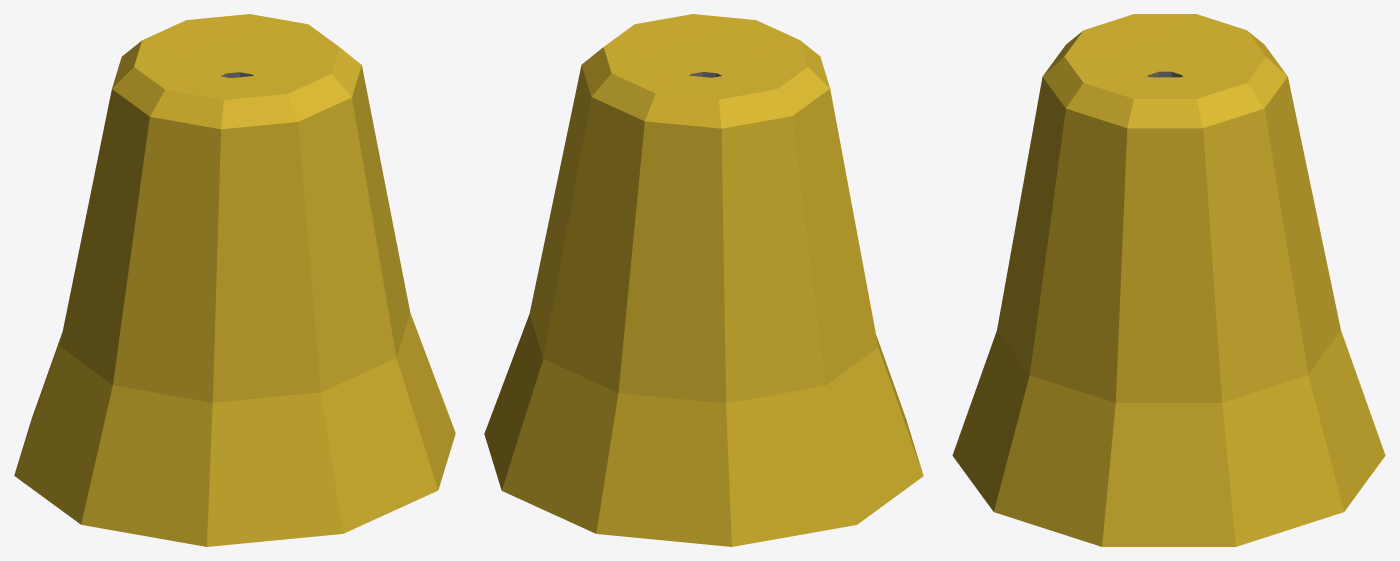
The model's file is bell metal overlay.obj.
3 views of the same model, side by side, from view 1: azimuth 30°, elevation 25°; view 2: azimuth 150°, elevation 25°; view 3: azimuth 270°, elevation 25° (orthographic).
Parts seen in each view (by area): view 1: Overlay_Metal; view 2: Overlay_Metal; view 3: Overlay_Metal.
Boxes of the visible parts, <box> form: Overlay_Metal: <box>14,14,455,546</box>; Overlay_Metal: <box>484,14,923,546</box>; Overlay_Metal: <box>952,14,1385,546</box>.
Bounding box in the file's own units: 1.55 × 1.58 × 1.55.
